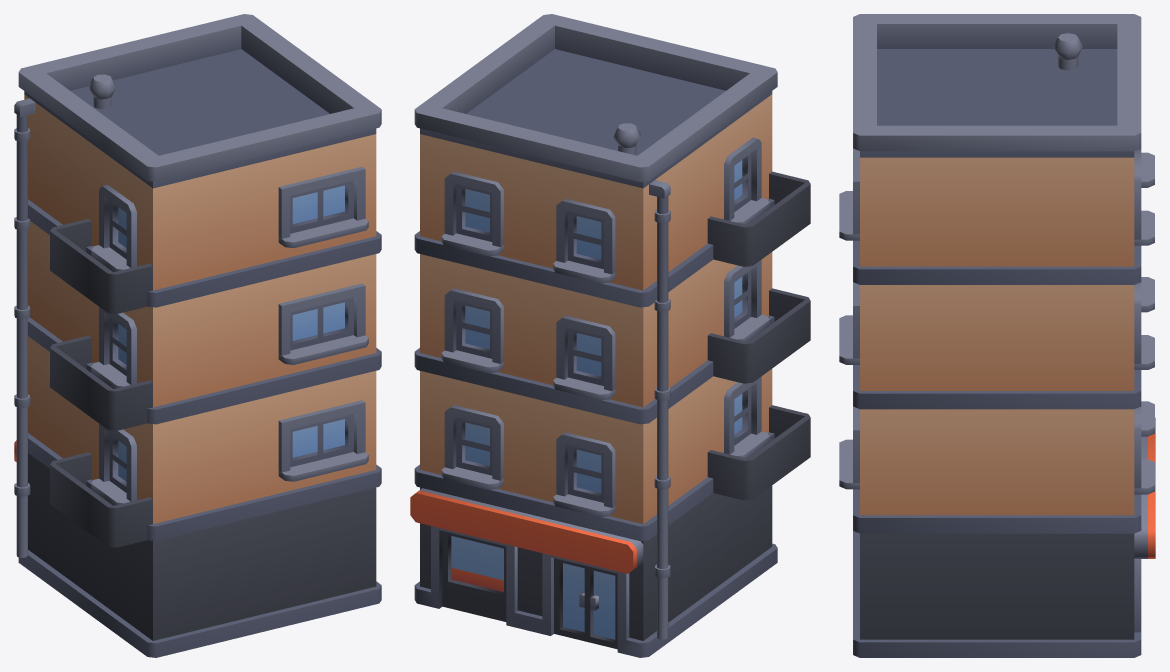
The model's file is building-g.glb.
3 renders of one model, left to right at view 1: azimuth 30°, elevation 25°; view 2: azimuth 150°, elevation 25°; view 3: azimuth 270°, elevation 25°, orthographic. The views are drawn at different scales.
Parts seen in each view (by area): view 1: building-g; view 2: building-g; view 3: building-g.
Boxes of the visible parts, <box> form: building-g: <box>14,14,381,657</box>; building-g: <box>410,14,810,657</box>; building-g: <box>839,14,1155,657</box>.
Size of the model in its own units: 0.97 by 1.69 by 0.922.
1 material, 1 textured.
